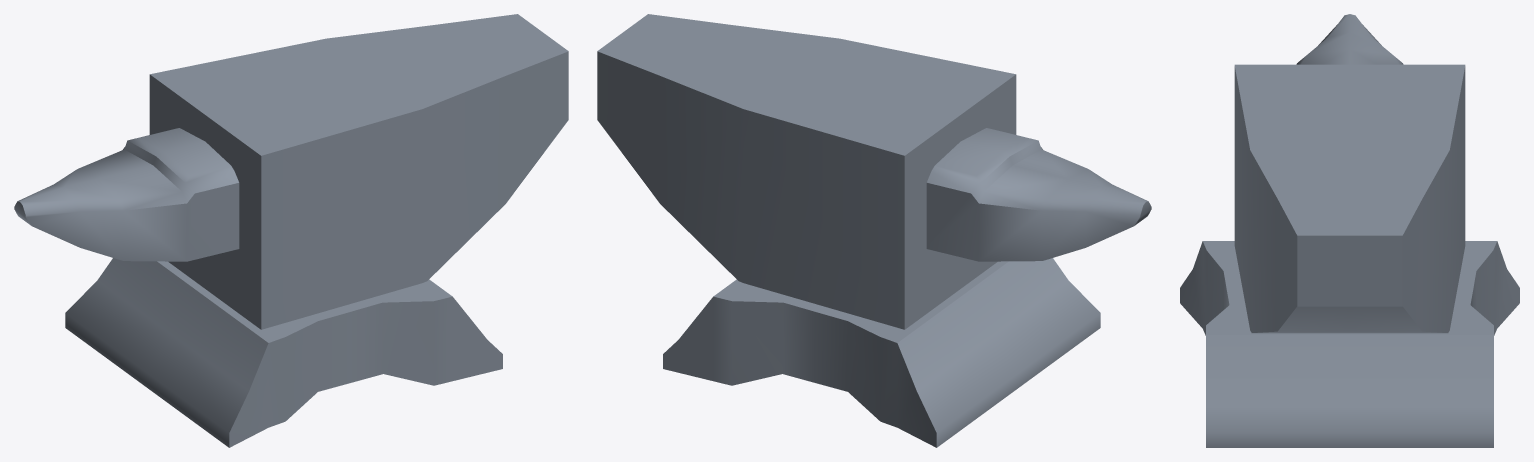
File: anvil.glb
3 renders of one model, left to right at view 1: azimuth 30°, elevation 25°; view 2: azimuth 150°, elevation 25°; view 3: azimuth 270°, elevation 25°, orthographic. The views are drawn at different scales.
Visible parts, largest first — view 1: Iron Anvil; view 2: Iron Anvil; view 3: Iron Anvil.
Part boxes in pixels (x1=…): Iron Anvil: x1=14, y1=14, x2=568, y2=447; Iron Anvil: x1=597, y1=14, x2=1151, y2=447; Iron Anvil: x1=1180, y1=14, x2=1519, y2=447.
Size of the model in its own units: 1.8 by 0.8502 by 0.9773.
